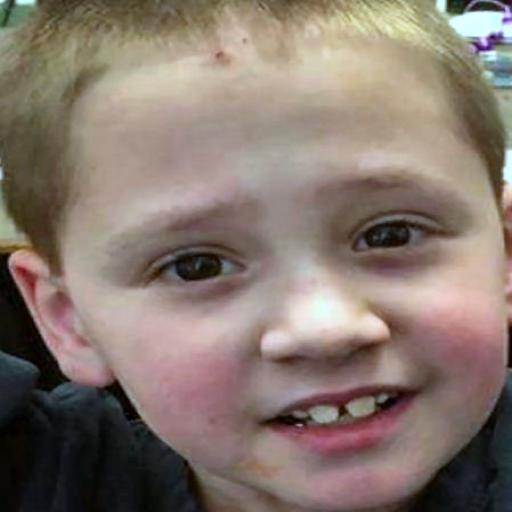Autism: (10, 2, 511, 512)
